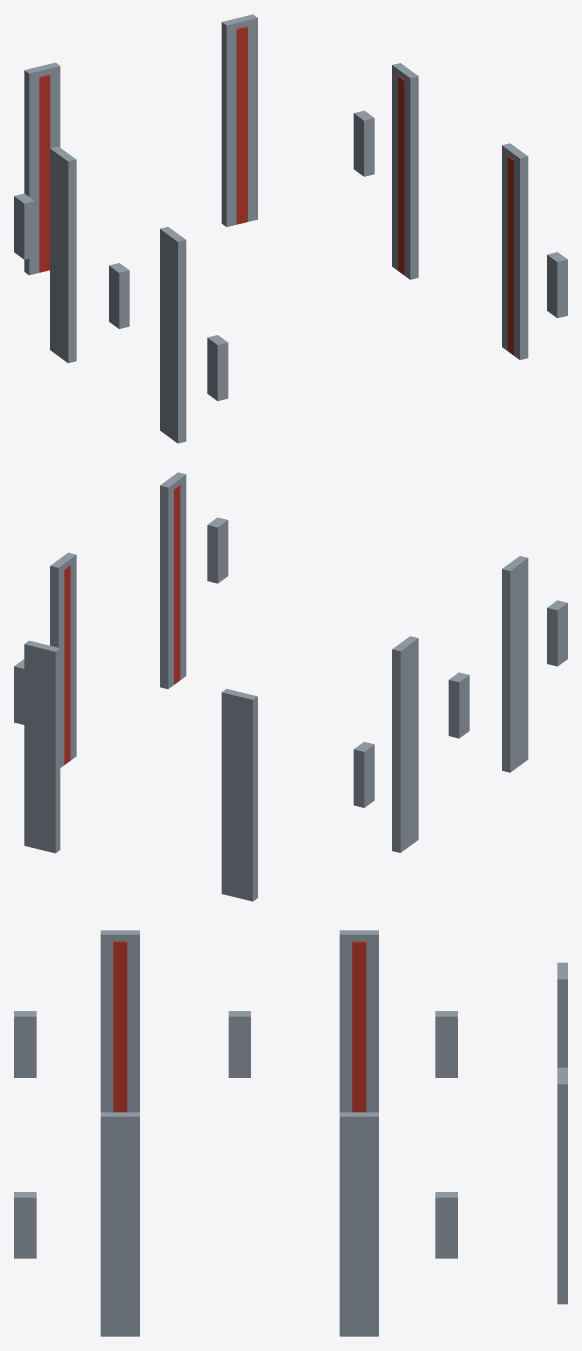
Rendered from connectors.glb.
3 renders of one model, top to bottom at view 1: azimuth 30°, elevation 25°; view 2: azimuth 150°, elevation 25°; view 3: azimuth 270°, elevation 25°, orthographic. The views are drawn at different scales.
Visible parts, largest first — view 1: key_pad_1, key_pad_3, key_pad_2, key_pad_4, key_pad_5, key_pad_0, key_1, key_0, key_4, key_5, dowel_pad_4, dowel_pad_0 (+3 smaller); view 2: key_pad_1, key_pad_0, key_pad_3, key_pad_2, key_pad_4, key_pad_5, key_5, key_4, dowel_pad_1, dowel_pad_3, dowel_pad_2, dowel_pad_0 (+1 smaller); view 3: key_pad_4, key_pad_5, key_pad_2, key_pad_3, key_pad_1, key_2, key_3, dowel_pad_0, dowel_pad_1, dowel_pad_2, dowel_pad_3, dowel_pad_4 (+1 smaller).
Boxes of the visible parts, x1,y1,x2,y2 form: key_pad_1: (221, 14, 257, 226); key_pad_3: (50, 146, 76, 363); key_pad_2: (160, 227, 186, 443); key_pad_4: (502, 143, 528, 359); key_pad_5: (392, 63, 418, 279); key_pad_0: (24, 62, 60, 275); key_1: (236, 26, 247, 224); key_0: (39, 74, 49, 272); key_4: (507, 156, 513, 355); key_5: (398, 76, 404, 274); dowel_pad_4: (353, 110, 374, 176); dowel_pad_0: (207, 335, 228, 401); key_pad_1: (24, 640, 60, 853); key_pad_0: (221, 689, 257, 901); key_pad_3: (392, 636, 418, 852); key_pad_2: (502, 556, 528, 772); key_pad_4: (160, 472, 186, 688); key_pad_5: (50, 552, 76, 767); key_5: (64, 565, 70, 764); key_4: (174, 485, 180, 684); dowel_pad_1: (448, 672, 469, 738); dowel_pad_3: (207, 517, 228, 583); dowel_pad_2: (353, 742, 374, 807); dowel_pad_0: (547, 600, 567, 666); key_pad_4: (100, 1112, 139, 1336); key_pad_5: (339, 1112, 378, 1336); key_pad_2: (100, 930, 139, 1112); key_pad_3: (339, 930, 378, 1112); key_pad_1: (557, 1067, 567, 1304); key_2: (113, 941, 127, 1112); key_3: (352, 941, 366, 1112); dowel_pad_0: (14, 1011, 36, 1077); dowel_pad_1: (228, 1011, 250, 1077); dowel_pad_2: (435, 1011, 457, 1077); dowel_pad_3: (14, 1192, 36, 1258); dowel_pad_4: (435, 1192, 457, 1258).
Bounding box in the file's own units: 0.3135 × 0.1724 × 0.3938.
